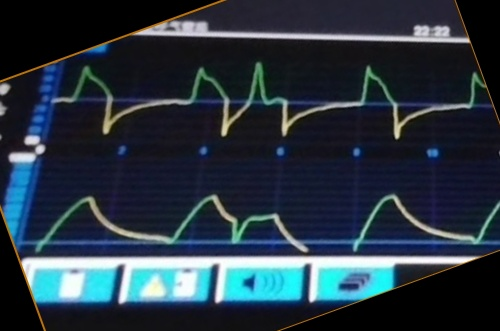Double_Triggering Flow: (63, 59, 477, 140)
Double_Triggering Volume: (34, 185, 490, 251)
